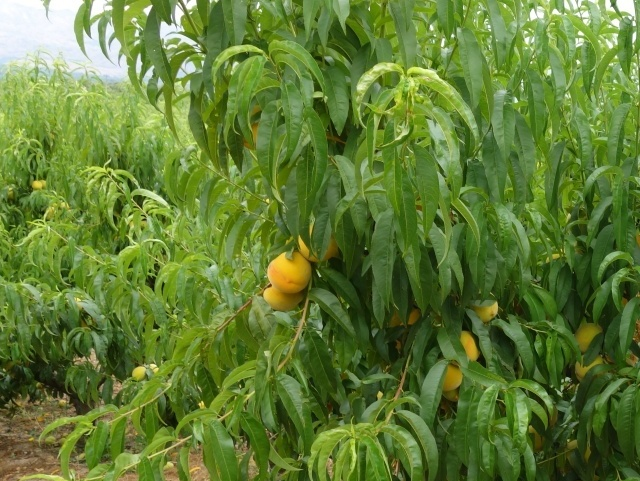peach: (293, 214, 346, 267), (262, 249, 314, 293), (258, 277, 306, 317), (445, 325, 483, 371), (571, 316, 614, 354), (575, 345, 611, 388), (431, 357, 469, 395), (471, 290, 502, 327), (436, 378, 472, 409)
